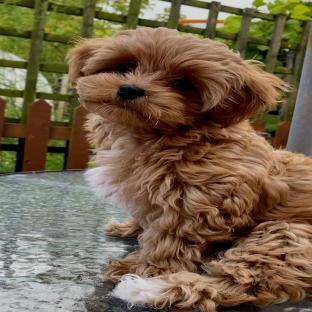Animal: (67, 27, 312, 312)
